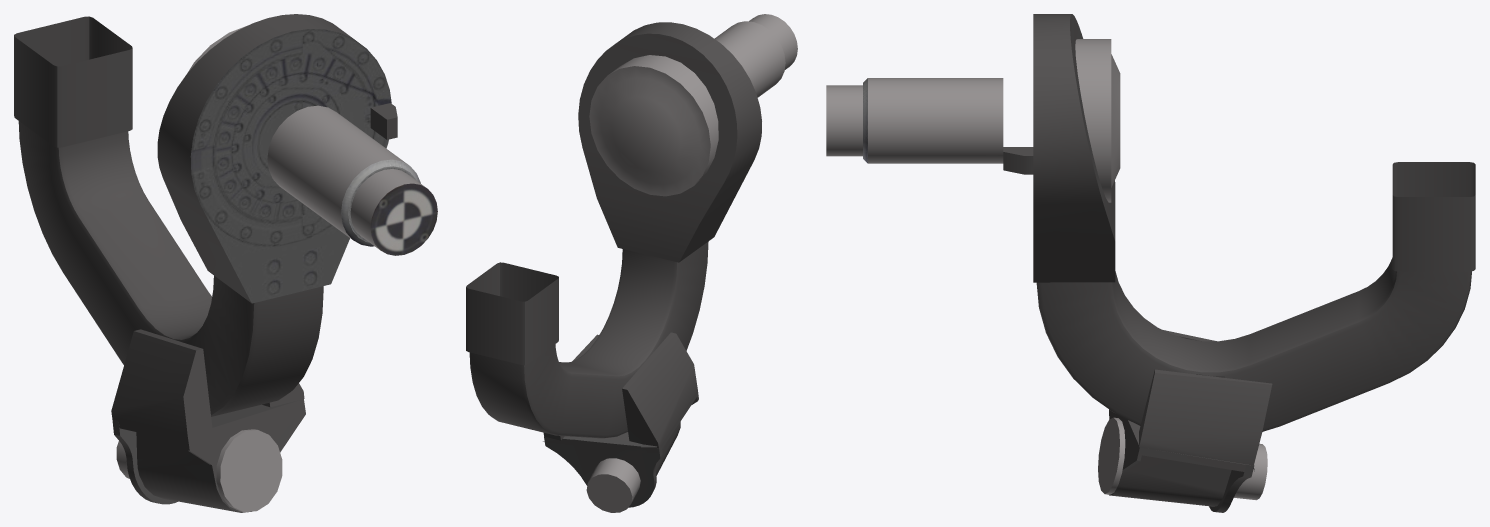
The model's file is amort_left_front.glb.
3 renders of one model, left to right at view 1: azimuth 30°, elevation 25°; view 2: azimuth 150°, elevation 25°; view 3: azimuth 270°, elevation 25°, orthographic. The views are drawn at different scales.
Parts seen in each view (by area): view 1: suspension.001; view 2: suspension.001; view 3: suspension.001.
Boxes of the visible parts, left/top/right/bottom form: suspension.001: left=14, top=14, right=437, bottom=512; suspension.001: left=466, top=14, right=797, bottom=512; suspension.001: left=826, top=14, right=1475, bottom=512.
Size of the model in its own units: 0.2085 by 0.5324 by 0.6335.
4 materials, 2 textured.
